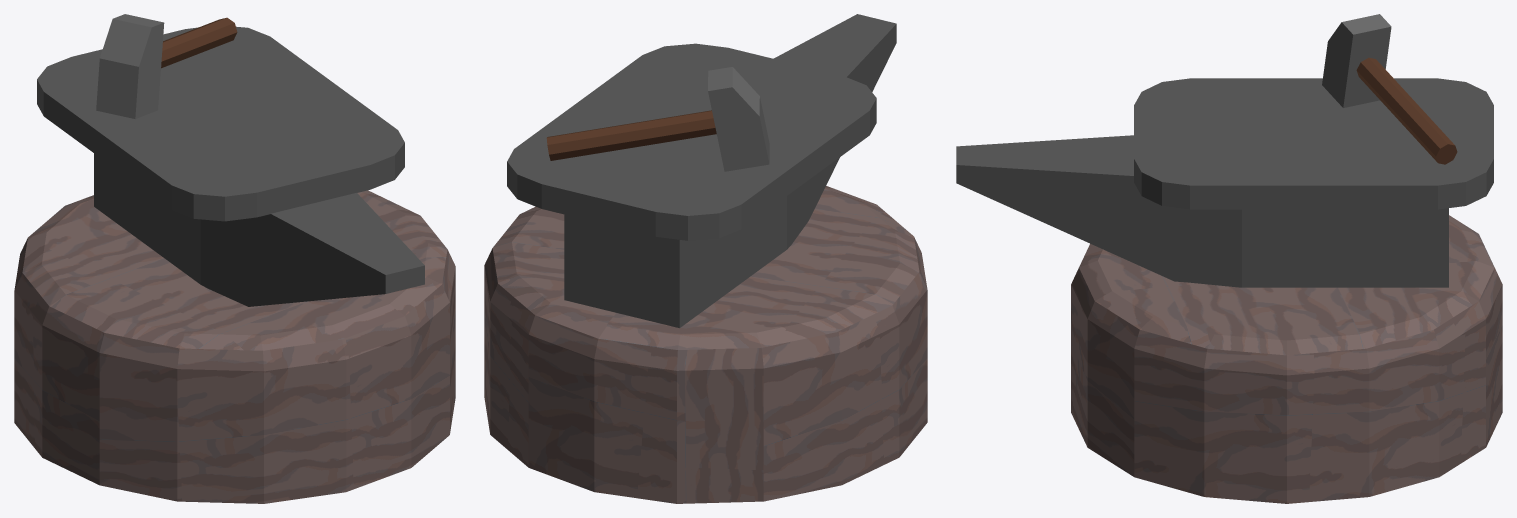
Rendered from anvil.glb.
3 views of the same model, side by side, from view 1: azimuth 30°, elevation 25°; view 2: azimuth 150°, elevation 25°; view 3: azimuth 270°, elevation 25° (orthographic). The views are drawn at different scales.
Parts seen in each view (by area): view 1: Cylinder, Cube.001, Cube, Cube.002, Cylinder.001; view 2: Cylinder, Cube.001, Cube, Cube.002, Cylinder.001; view 3: Cylinder, Cube.001, Cube, Cube.002, Cylinder.001.
Part boxes in pixels (box(x1,y1,x2,y2)): Cylinder: box(14, 190, 455, 503); Cube.001: box(37, 26, 404, 221); Cube: box(94, 153, 424, 306); Cube.002: box(96, 14, 164, 118); Cylinder.001: box(161, 17, 237, 68); Cylinder: box(484, 186, 927, 503); Cube.001: box(507, 43, 876, 240); Cube: box(564, 14, 896, 328); Cube.002: box(708, 67, 769, 171); Cylinder.001: box(546, 110, 716, 160); Cylinder: box(1071, 215, 1502, 503); Cube.001: box(1134, 78, 1493, 209); Cube: box(956, 135, 1448, 287); Cube.002: box(1322, 14, 1391, 107); Cylinder.001: box(1356, 57, 1457, 164).
Size of the model in its own units: 1.2 by 1.12 by 1.52.
Materials: 4 (1 with a texture image).
